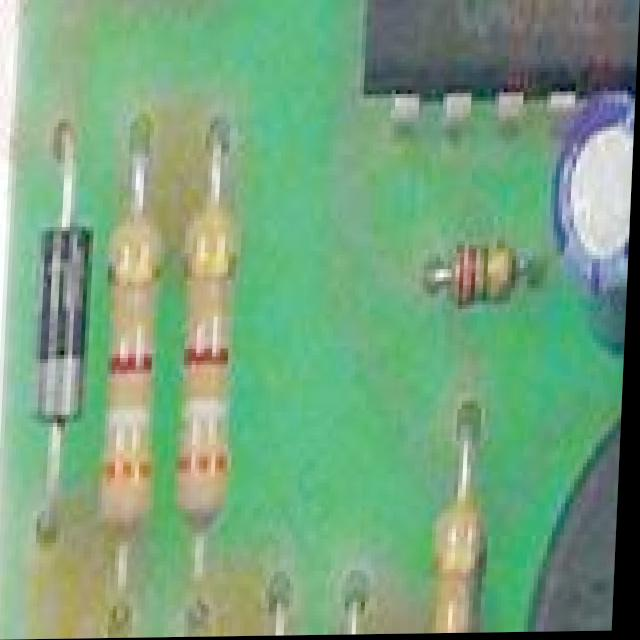IC: (367, 0, 640, 132)
buzzer: (530, 377, 627, 634)
diode: (39, 155, 109, 495)
resistor: (174, 89, 253, 638), (98, 98, 173, 639), (436, 214, 528, 329), (438, 458, 496, 635), (342, 603, 395, 636), (258, 632, 310, 637)
